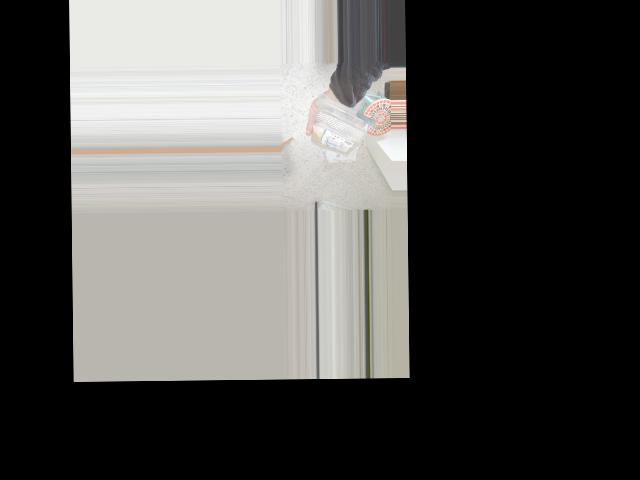cheese: (312, 93, 379, 167)
